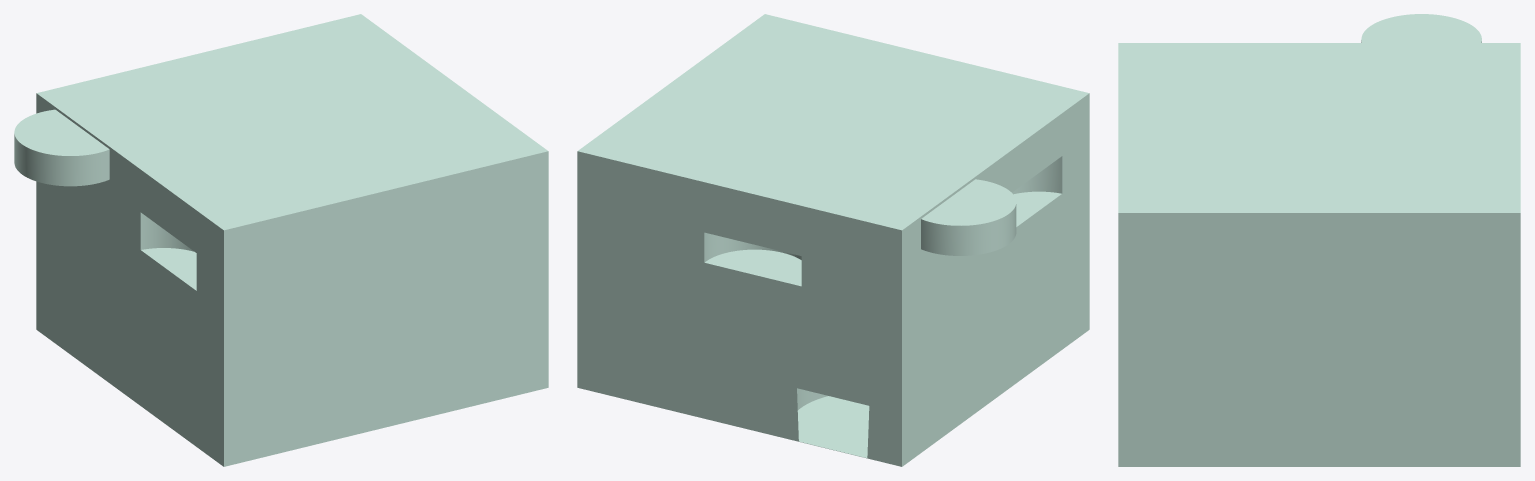
3 views of the same model, side by side, from view 1: azimuth 30°, elevation 25°; view 2: azimuth 150°, elevation 25°; view 3: azimuth 270°, elevation 25° (orthographic). The views are drawn at different scales.
Parts seen in each view (by area): view 1: Renderer Node; view 2: Renderer Node; view 3: Renderer Node.
Boxes of the visible parts, x1,y1,x2,y2 form: Renderer Node: [14, 14, 548, 466]; Renderer Node: [577, 14, 1089, 466]; Renderer Node: [1118, 14, 1520, 466].
Bounding box in the file's own units: 1.25 × 0.7344 × 1.05.
